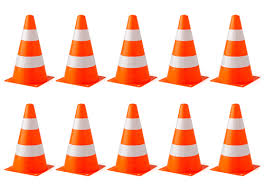cones: (210, 101, 261, 175), (56, 104, 104, 178), (109, 104, 158, 176), (160, 16, 210, 86), (161, 104, 208, 177), (211, 16, 260, 86), (5, 15, 52, 87), (4, 104, 52, 174), (59, 16, 104, 85), (111, 21, 154, 87)
